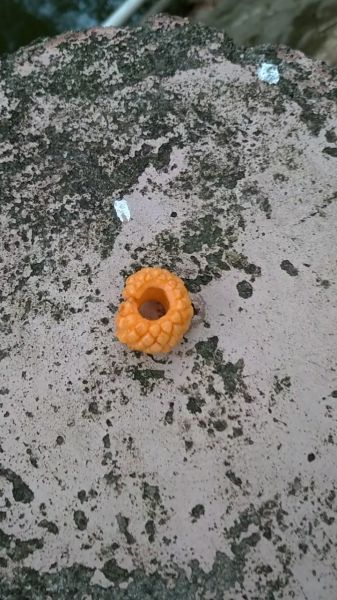eggs: (107, 261, 195, 356)
